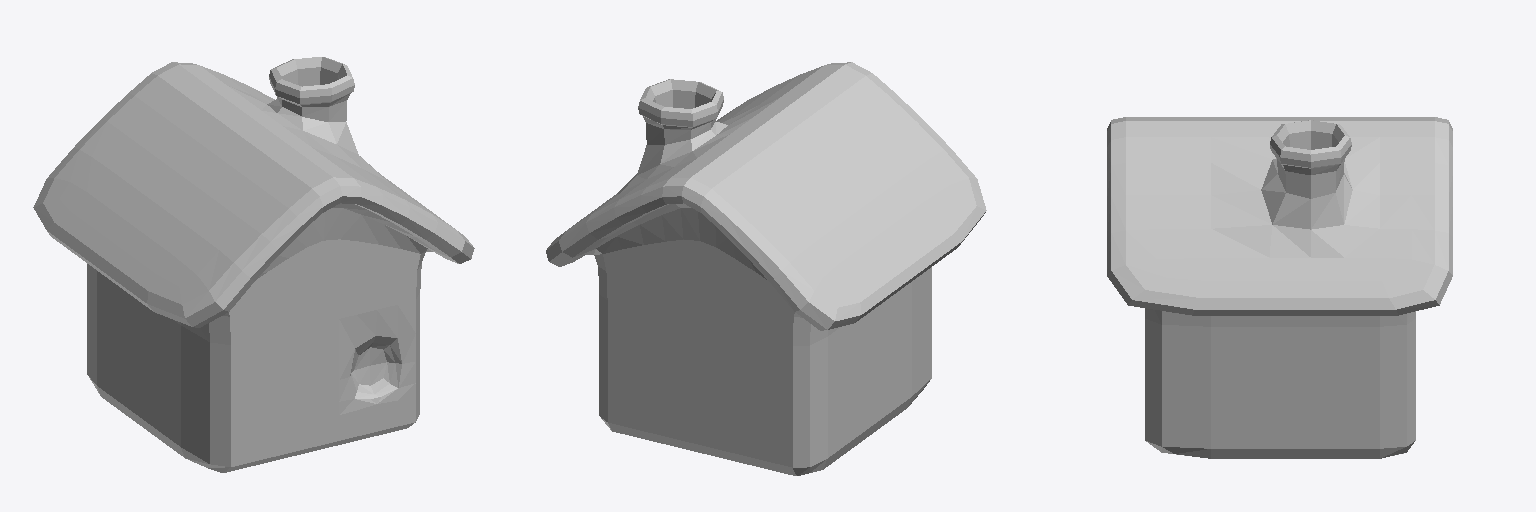
Rendered from houseUV.obj.
3 renders of one model, left to right at view 1: azimuth 30°, elevation 25°; view 2: azimuth 150°, elevation 25°; view 3: azimuth 270°, elevation 25°, orthographic.
Visible parts, largest first — view 1: house_barral_base_mesh:pCube7; view 2: house_barral_base_mesh:pCube7; view 3: house_barral_base_mesh:pCube7.
Part boxes in pixels (x1,y1,x2,y2): house_barral_base_mesh:pCube7: (33, 57, 474, 472); house_barral_base_mesh:pCube7: (546, 62, 986, 475); house_barral_base_mesh:pCube7: (1107, 117, 1452, 458).
Bounding box in the file's own units: 35.71 × 35.07 × 35.38.